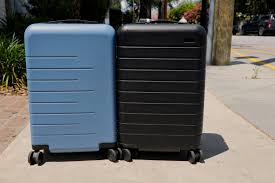suitcase: (26, 19, 117, 167), (114, 19, 206, 164)
